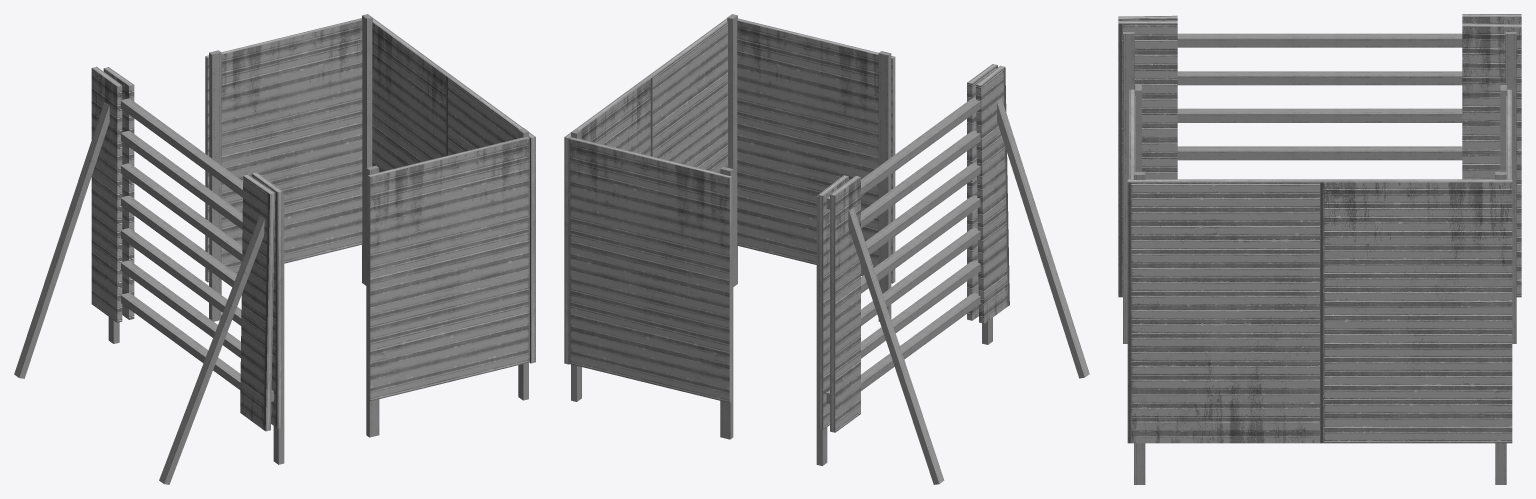
Rendered from CP_Louvered_Screen_03.fbx.
3 renders of one model, left to right at view 1: azimuth 30°, elevation 25°; view 2: azimuth 150°, elevation 25°; view 3: azimuth 270°, elevation 25°, orthographic. The views are drawn at different scales.
Visible parts, largest first — view 1: CP_Louvered_Screen_03_LOD0; view 2: CP_Louvered_Screen_03_LOD0; view 3: CP_Louvered_Screen_03_LOD0.
Part boxes in pixels (<box>): CP_Louvered_Screen_03_LOD0: <box>14,14,535,484</box>; CP_Louvered_Screen_03_LOD0: <box>564,14,1089,484</box>; CP_Louvered_Screen_03_LOD0: <box>1118,14,1521,484</box>.
Size of what is drawn, in the model's own units: 634 by 460 by 523.
